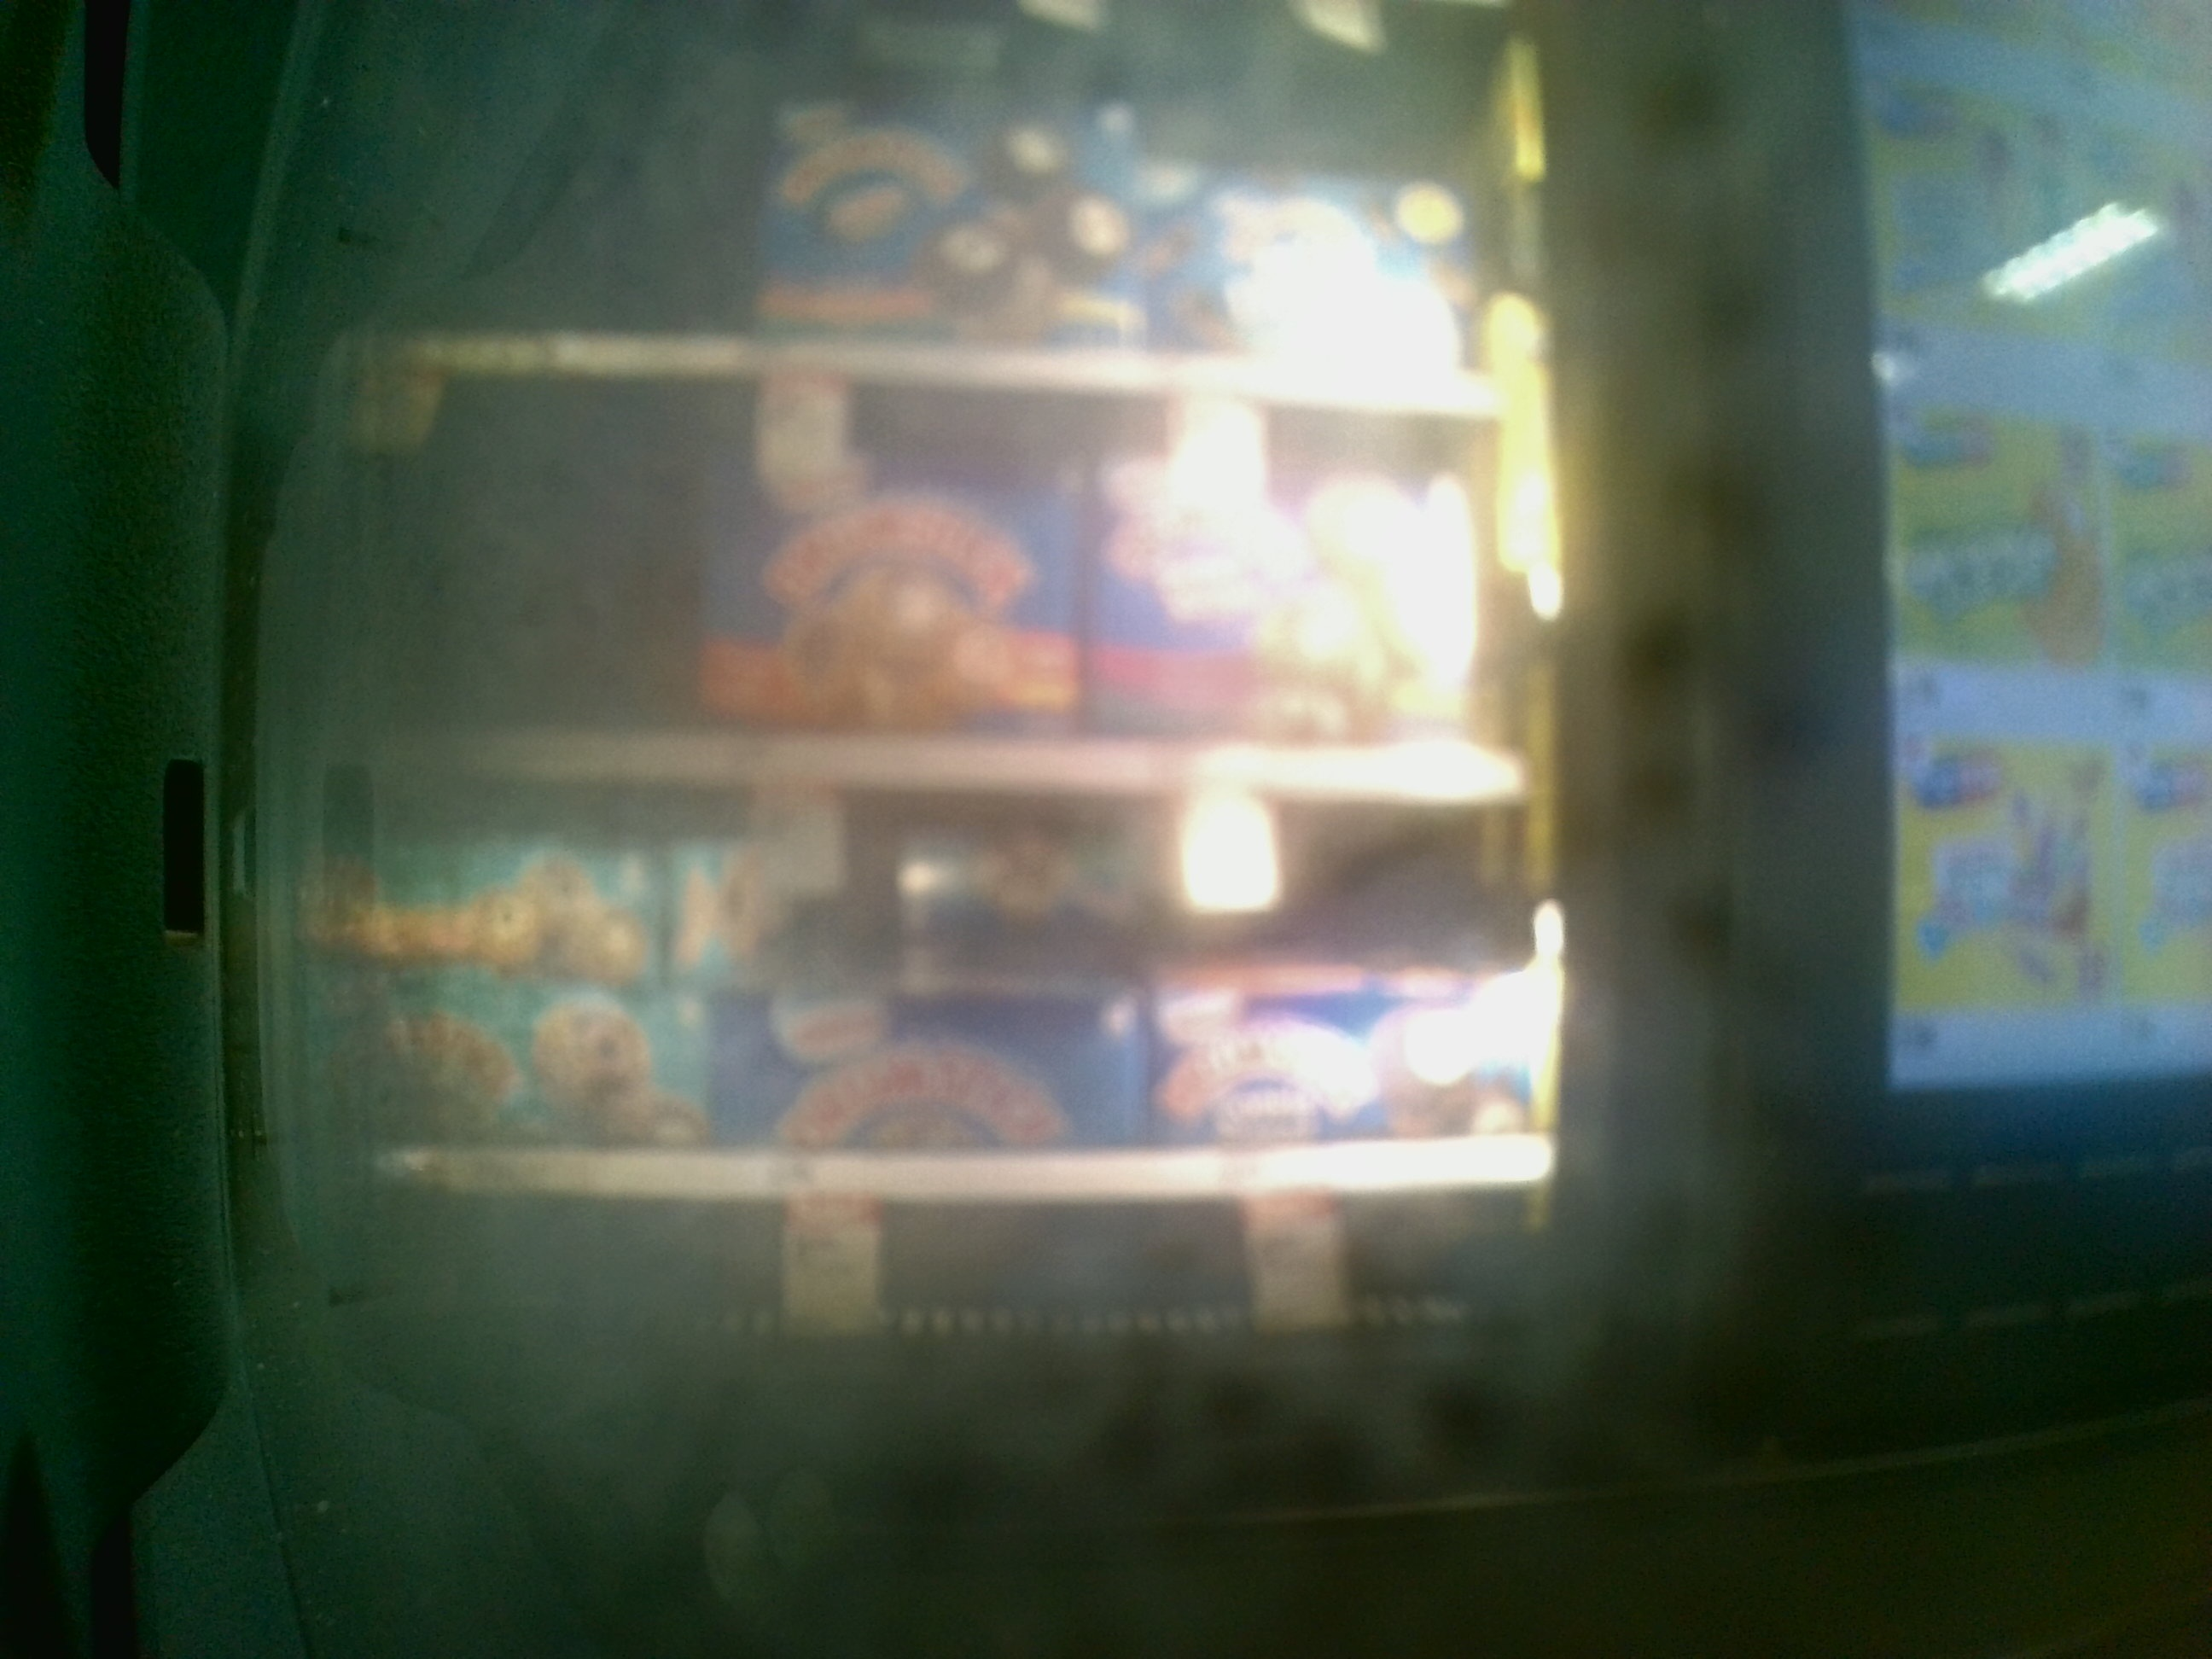shelf: (336, 362, 1533, 788), (336, 791, 1550, 1194)
